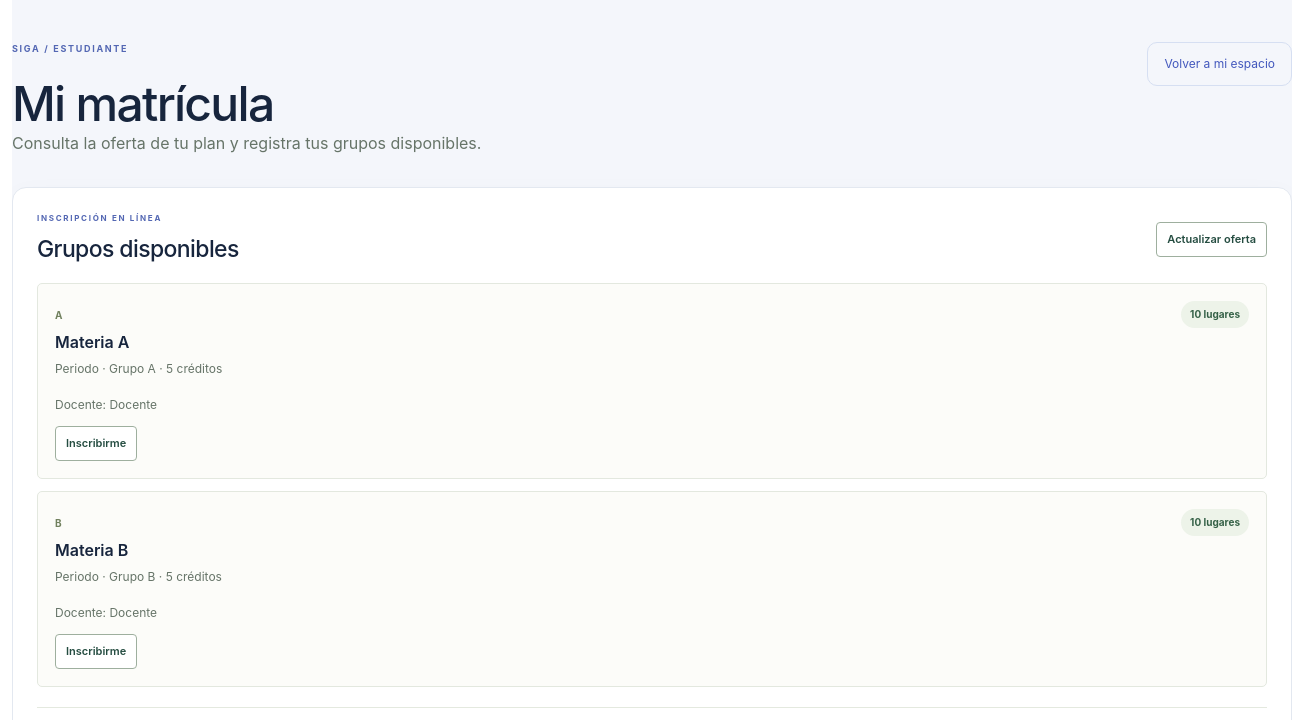
Test case: muestra el registro pendiente solo en el grupo elegido
Click the button "Inscribirme" below "Materia A": (96, 444) [55,426,137,461]
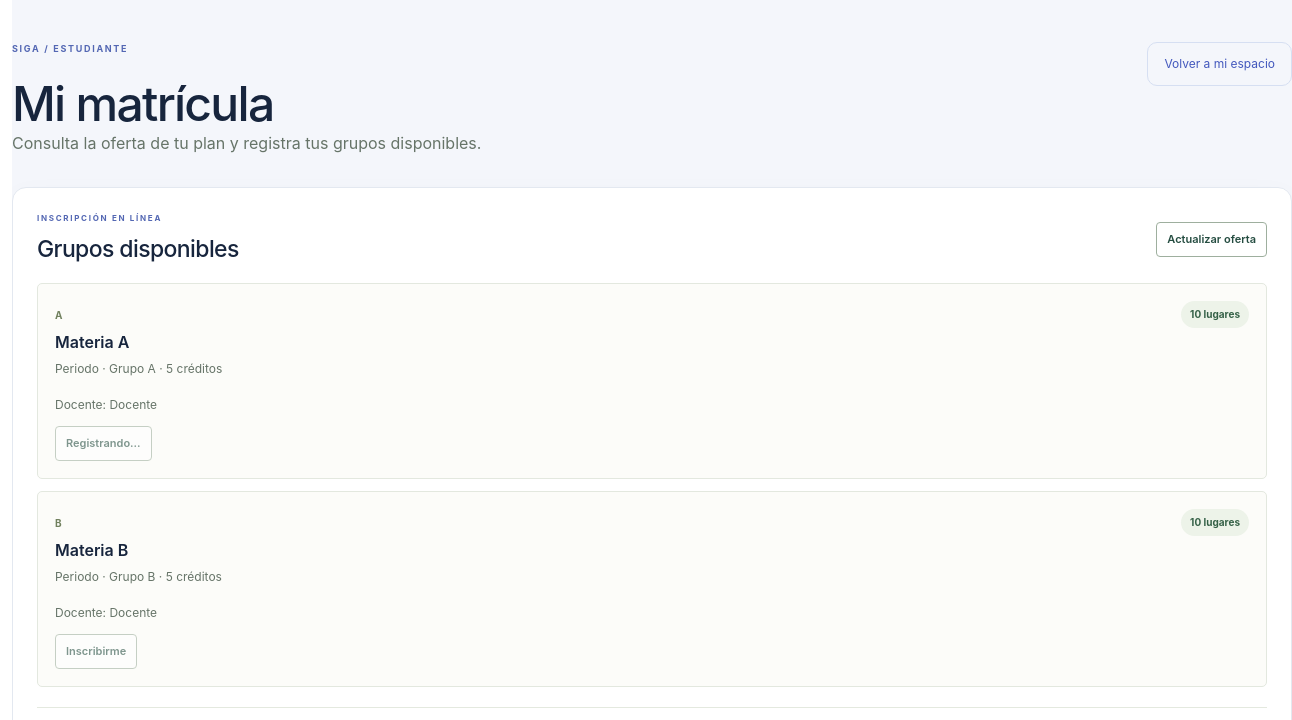
Expected: the button "Registrando…" is disabled, [55,426,152,461]
Expected: the button "Inscribirme" is disabled, [55,634,137,669]
